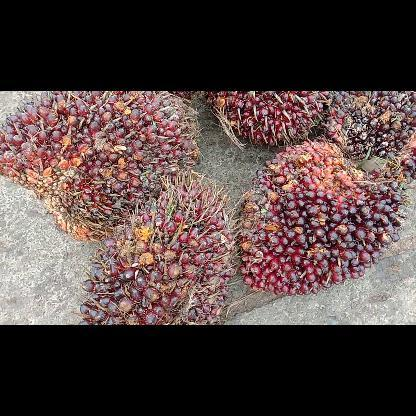Kurang masak: (0, 90, 203, 246), (233, 137, 412, 297), (73, 174, 239, 324), (204, 90, 332, 152), (323, 91, 415, 167)
